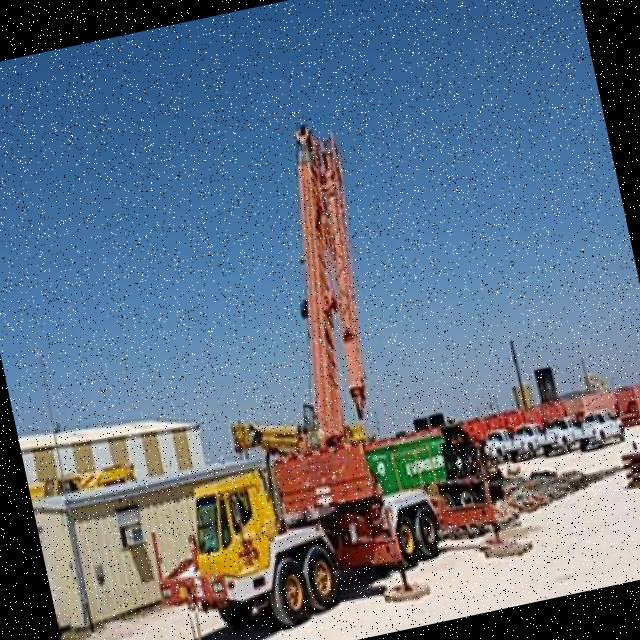Mobile Crane: (72, 102, 523, 640)
